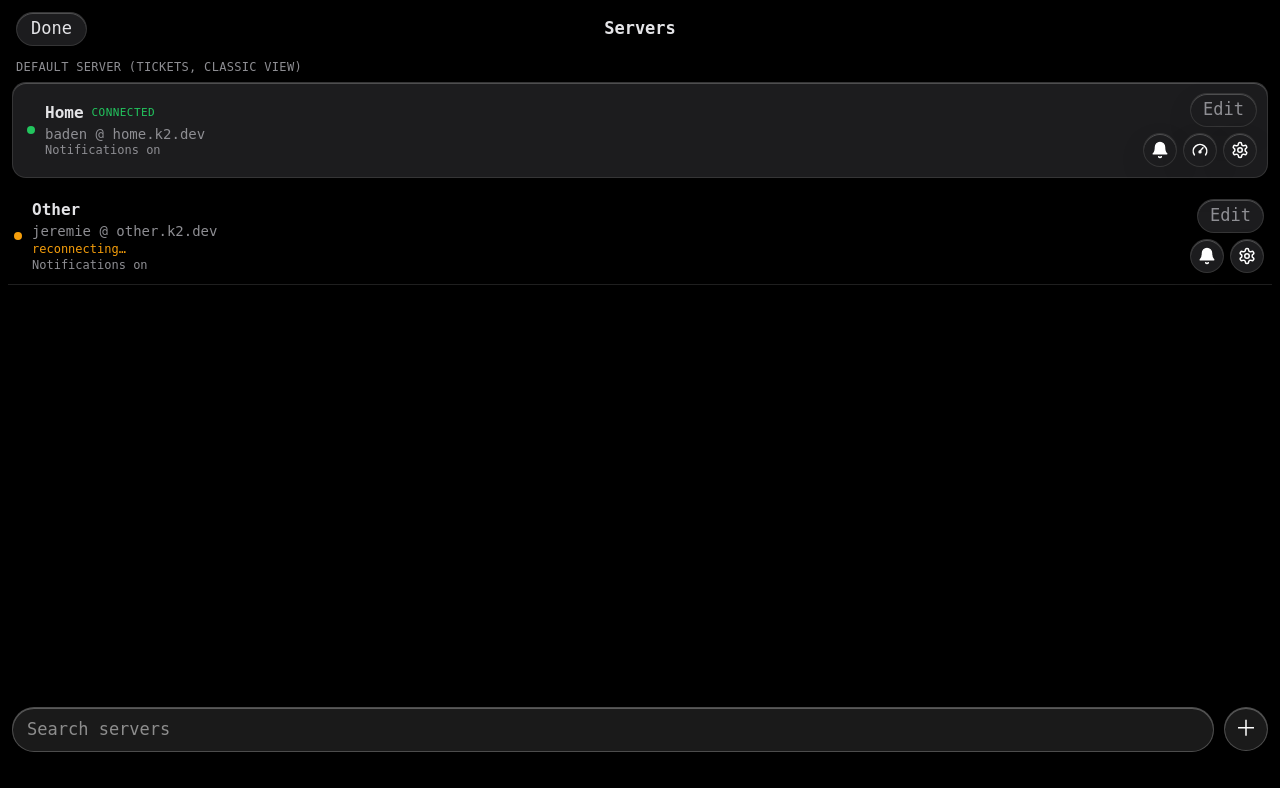
Test case: Servers sheet gear → Server settings › Show message previews › shows a failed save inline
Expected: the 1st button with test id "server-bell" is shown, 1143,133 -> 1177,167
Click the 1st button with test id "server-settings" at (1240, 150), box 1223,133 -> 1257,167
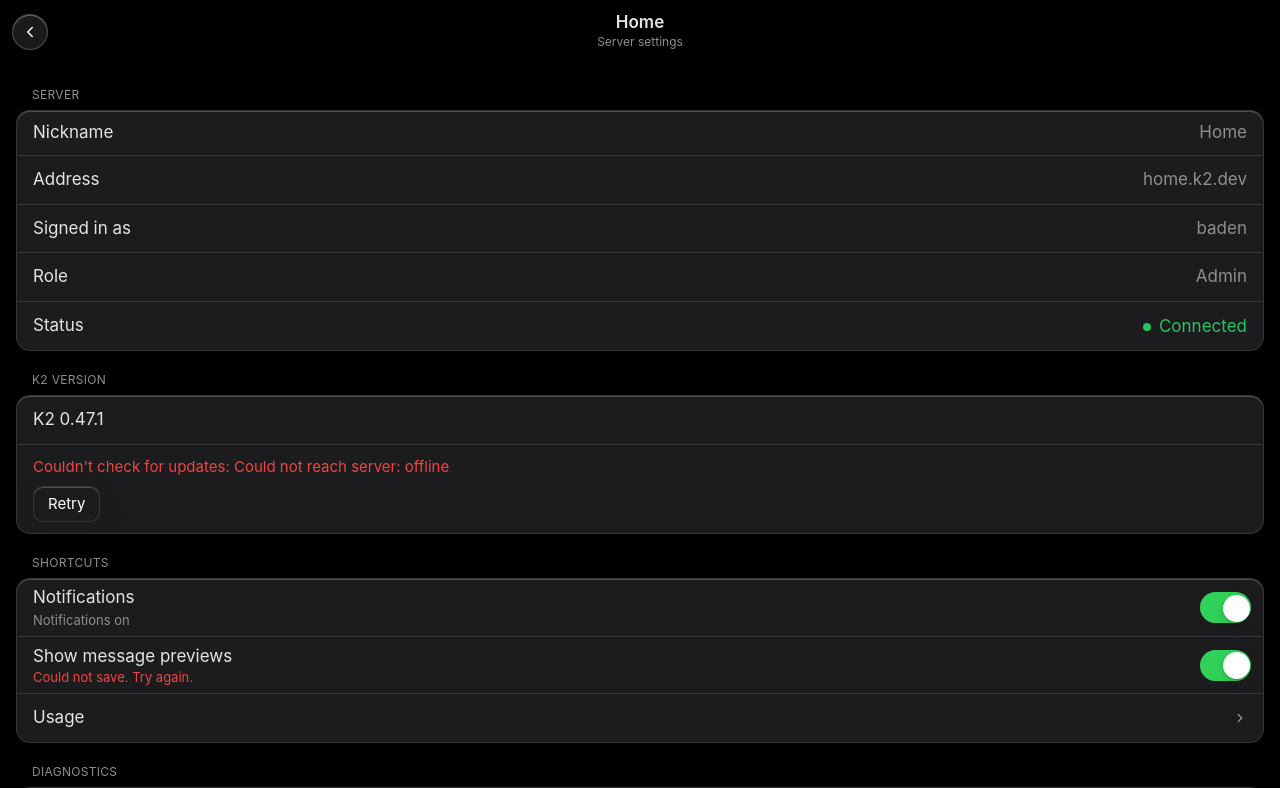
Now the element with test id "server-settings-notify" is shown, box 17,579 -> 1263,636
Now the text with test id "server-settings-previews-status" reads "Could not save. Try again.", box 33,669 -> 193,685
